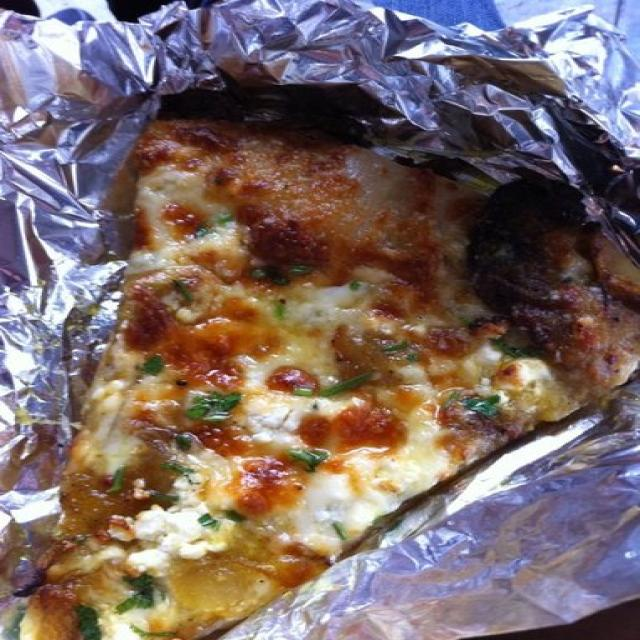Pizza: (22, 110, 640, 640)
